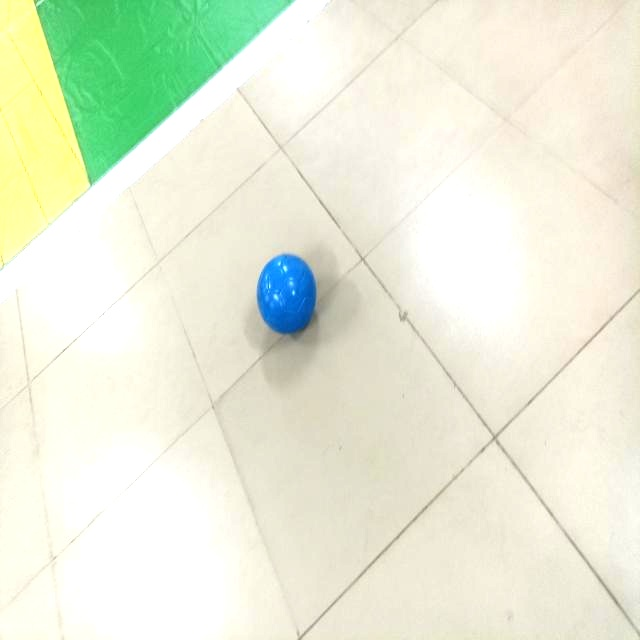blue_ball: (254, 244, 322, 338)
